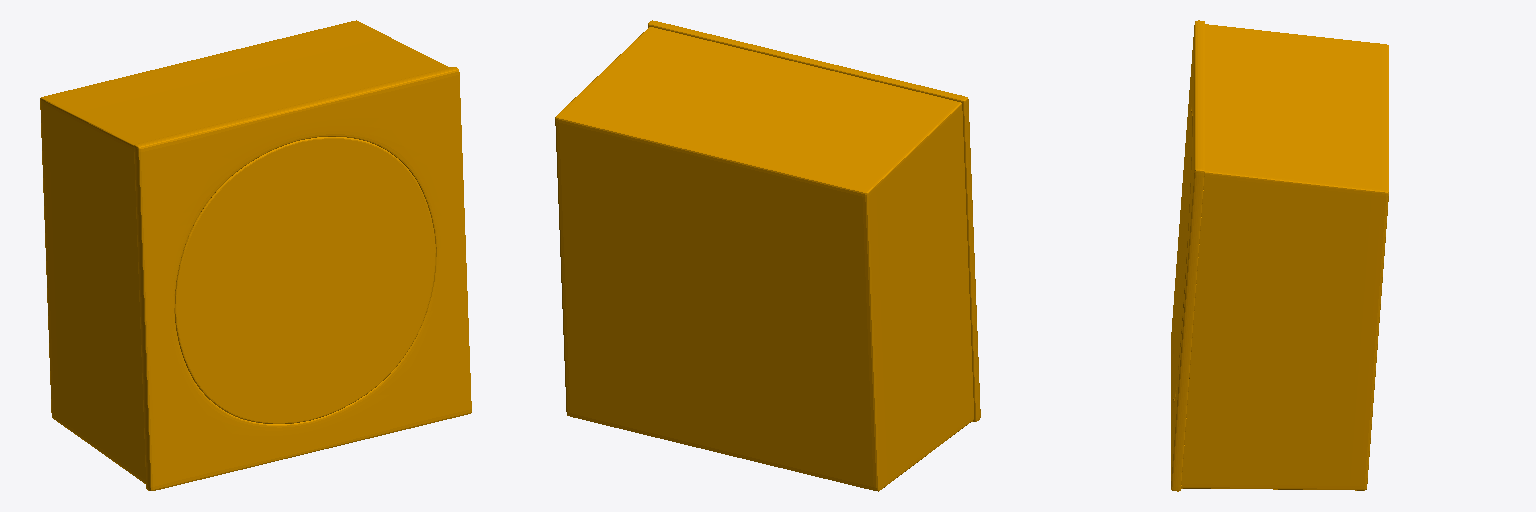
URDF robot description (none):
<robot name="none">
       <link name="none">
           <visual>
               <origin rpy="1.57 0 0" xyz="0 0 0" />
               <geometry>
                   <mesh filename="clock.obj" />
               </geometry>
           </visual>
          <collision>
              <geometry>
                  <box size="1.000000 0.998201 0.612865" />
              </geometry>
          </collision>

          <inertial>
            <mass value="0.0" />
            <inertia ixx="0.0" ixy="0.0" ixz="0.0" iyy="0.0" iyz="0.0" izz="0.0" />
          </inertial>
      </link>
  </robot>

--- Facts derived from the render (not from the file) ---
The picture shows the robot from 3 angles, left to right: view 1: azimuth 30°, elevation 25°; view 2: azimuth 150°, elevation 25°; view 3: azimuth 270°, elevation 25°; orthographic projection.
Model none with 1 links and 0 joints (none), rooted at none, posed every joint at zero.
Visible links, largest first — view 1: none; view 2: none; view 3: none.
Link boxes in pixels (x1,y1,x2,y2): none: [40, 20, 471, 490]; none: [555, 20, 980, 491]; none: [1171, 20, 1388, 491].
Size in the robot's own frame: 1 by 0.6136 by 0.9983 metres.
Meshes: 1 distinct files referenced, 1 mesh visuals loaded (1 OBJ).